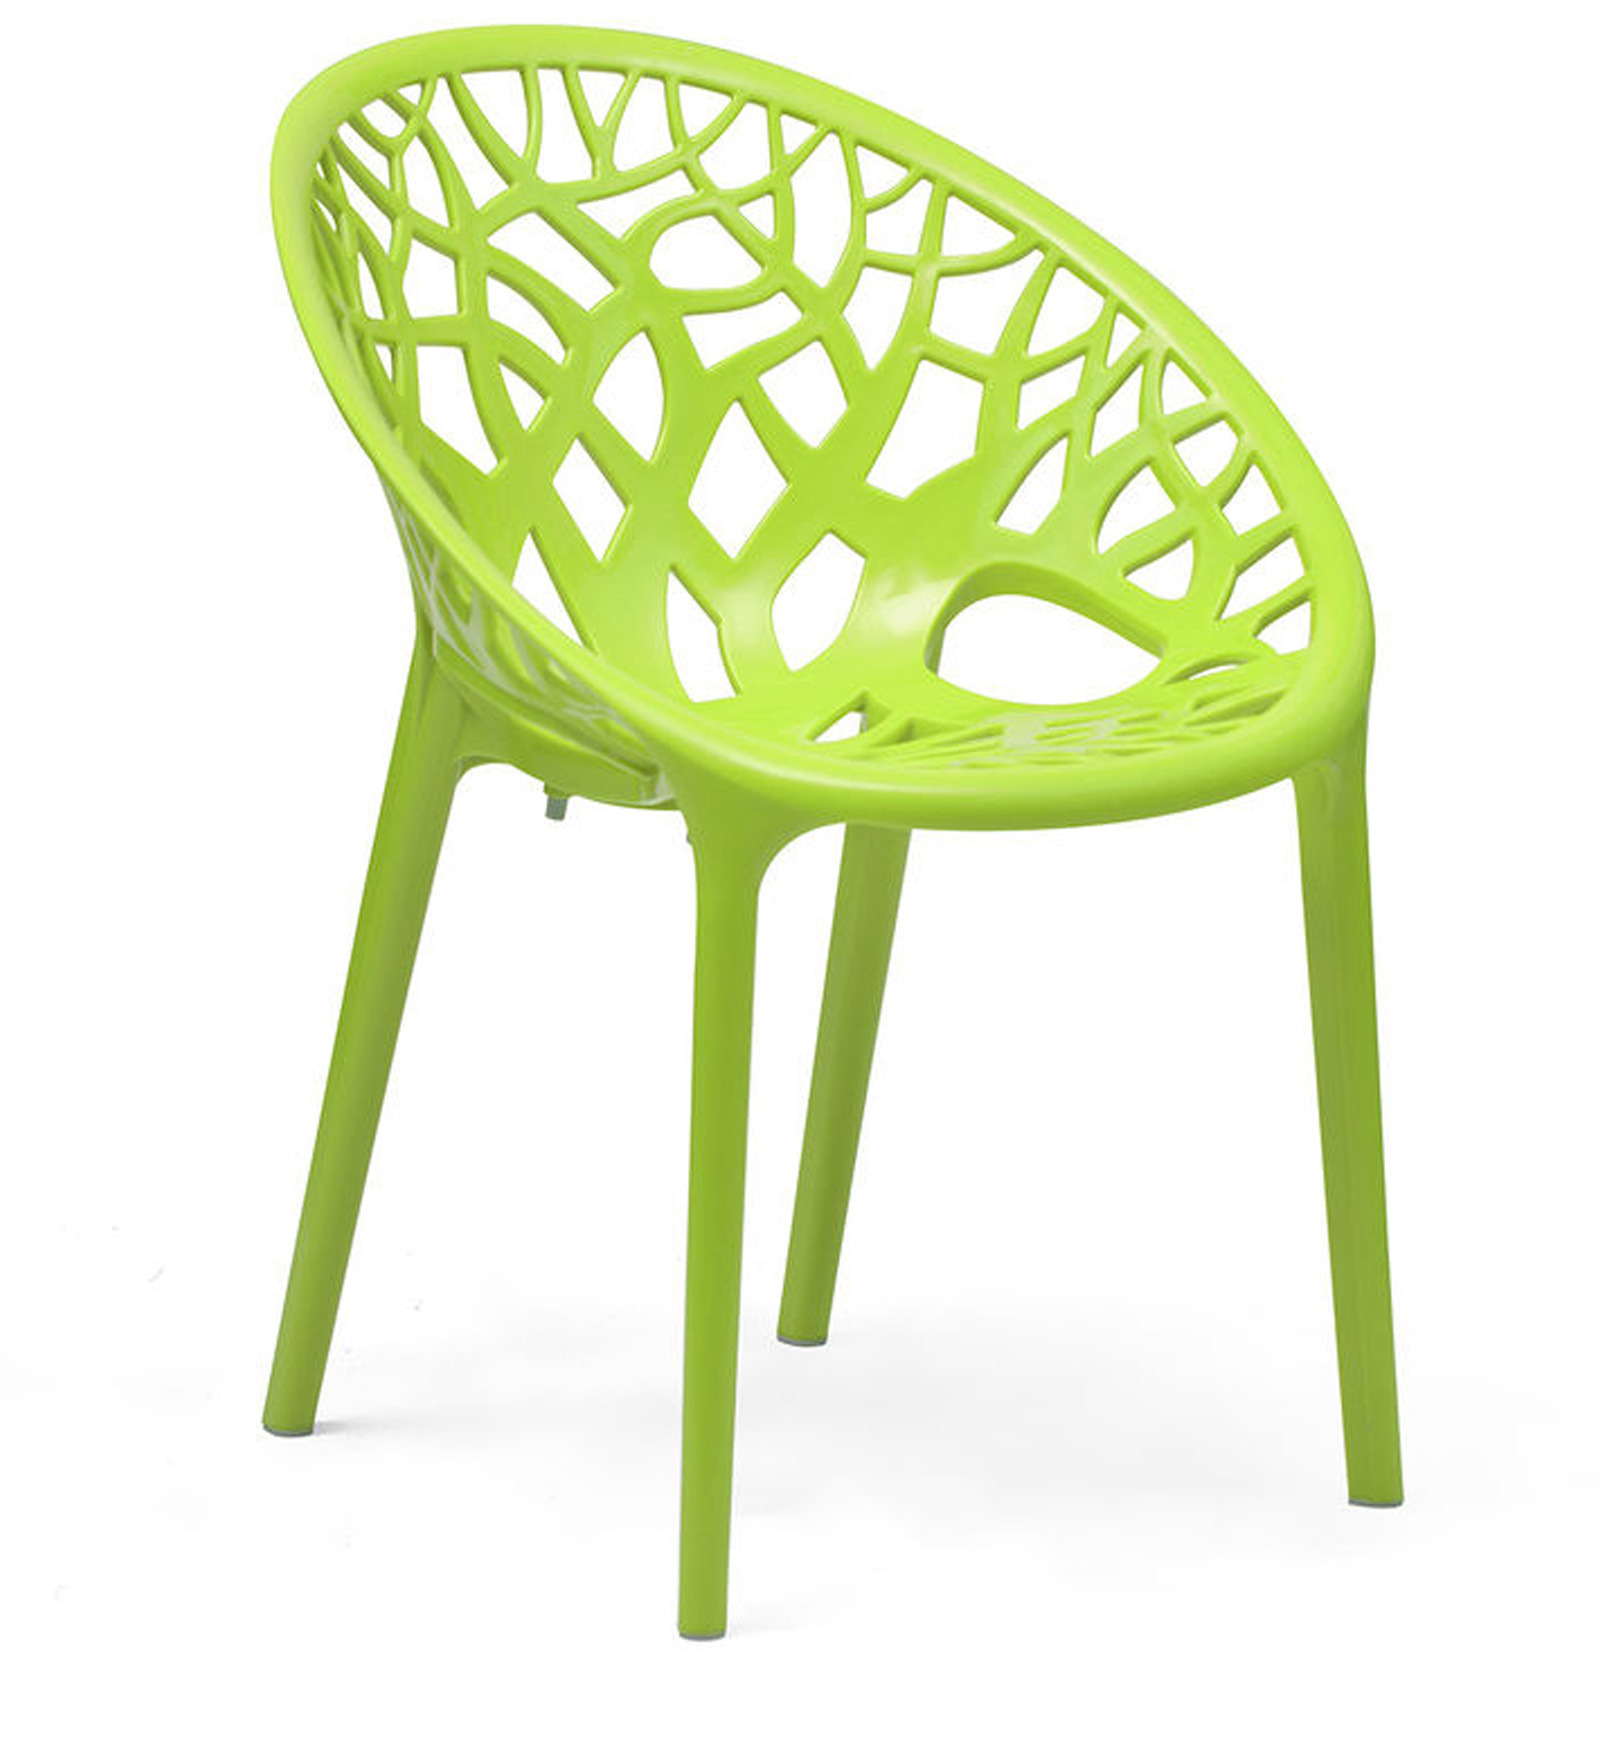Crystal Designer Chair in Lime Green Colour by Nilkamal: (159, 17, 1444, 1636)
